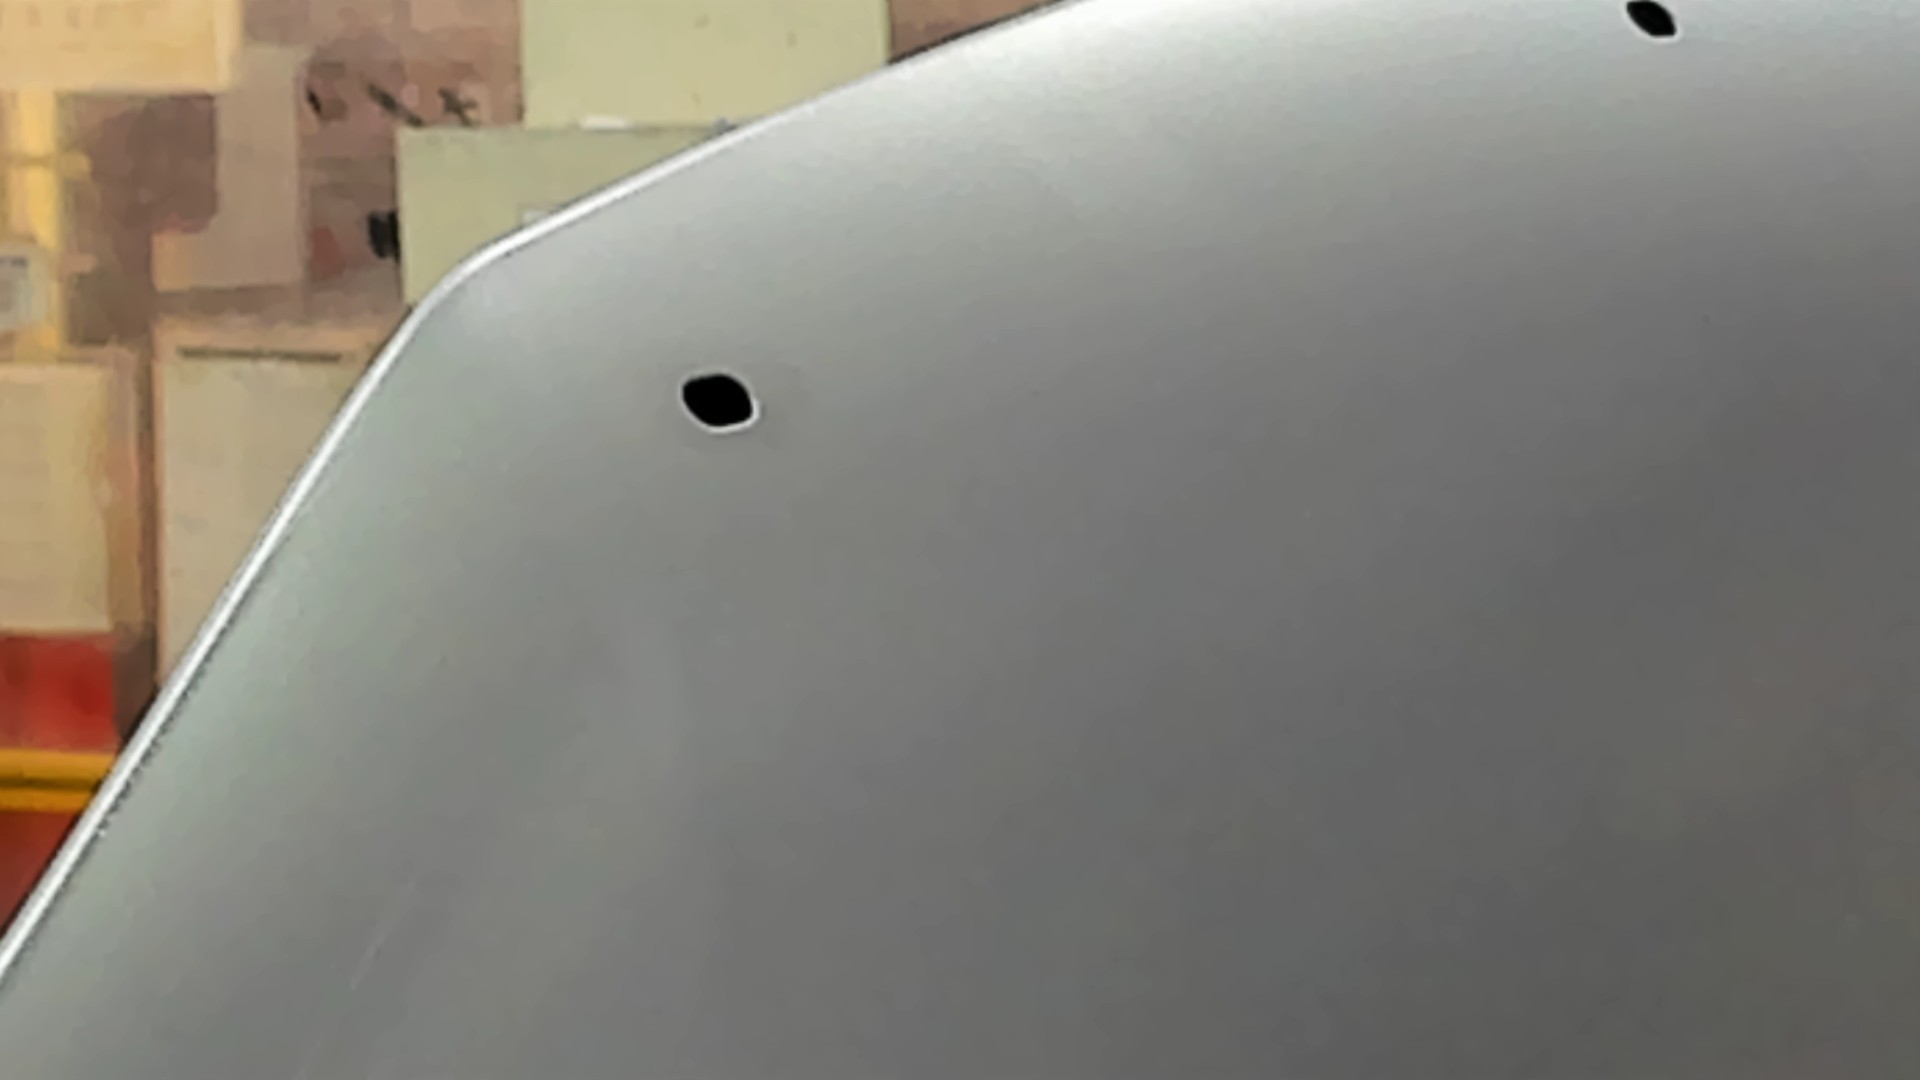amorfo: (675, 364, 764, 435), (1621, 1, 1687, 45)
